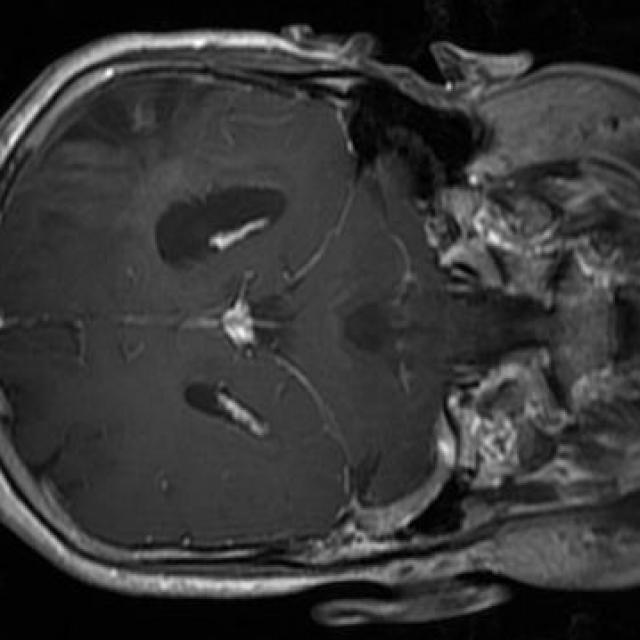glioma: (37, 78, 287, 267)
